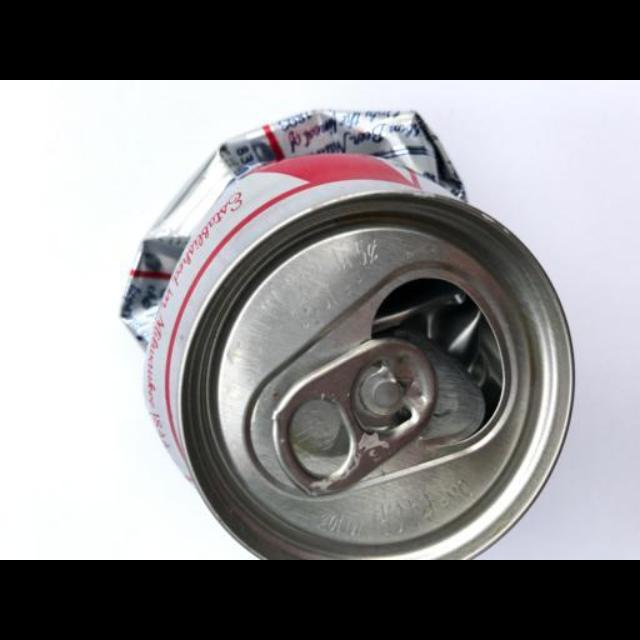aba de lata: (263, 336, 437, 498)
lata: (122, 108, 580, 560)
